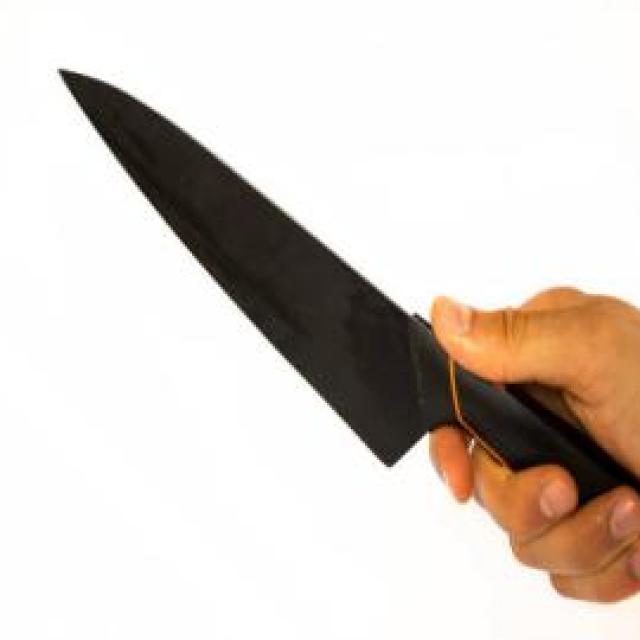knife: (57, 40, 640, 621)
